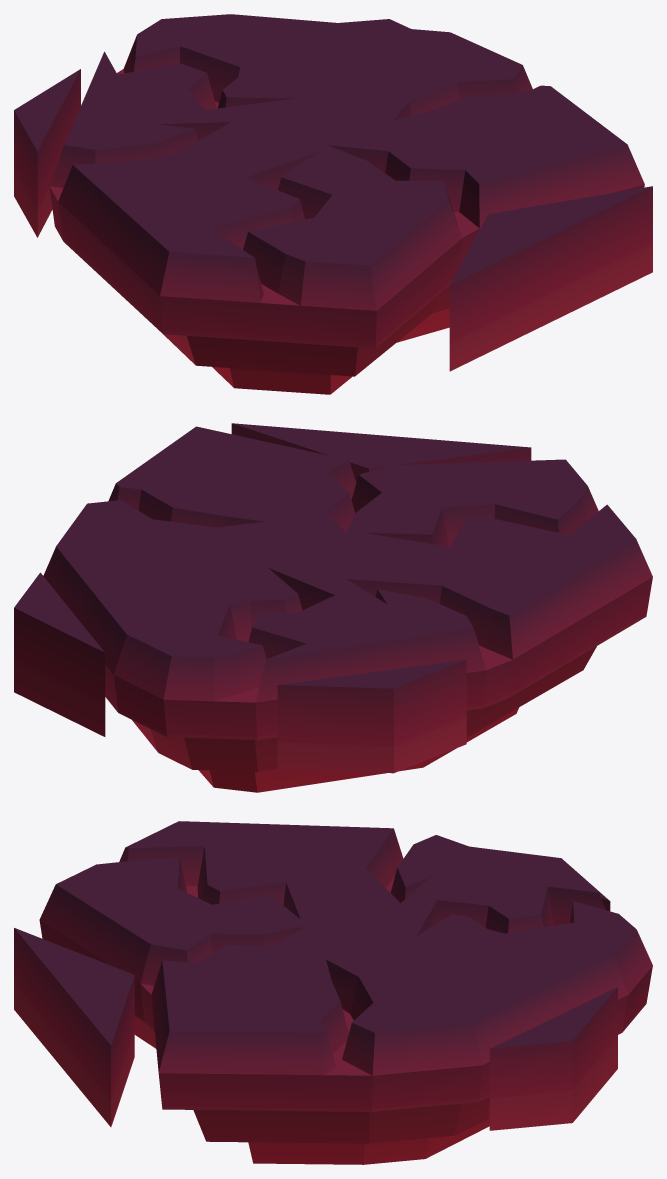
Rendered from column_lev_4.fbx.
3 renders of one model, top to bottom at view 1: azimuth 30°, elevation 25°; view 2: azimuth 150°, elevation 25°; view 3: azimuth 270°, elevation 25°, orthographic. The views are drawn at different scales.
Visible parts, largest first — view 1: column_lev_5; view 2: column_lev_5; view 3: column_lev_5.
Boxes of the visible parts, x1,y1,x2,y2 form: column_lev_5: (14,14,652,394); column_lev_5: (14,423,652,792); column_lev_5: (14,821,652,1164).
Bounding box in the file's own units: 179 × 63.87 × 215.
